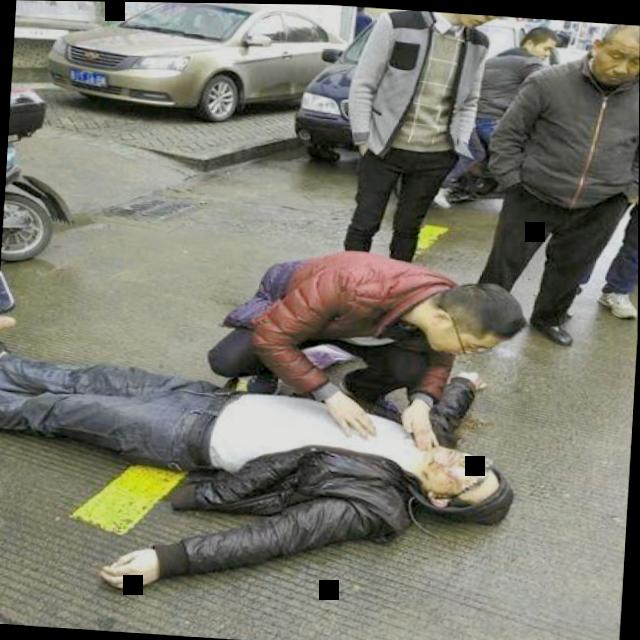Fall-Detected: (0, 314, 555, 616)
